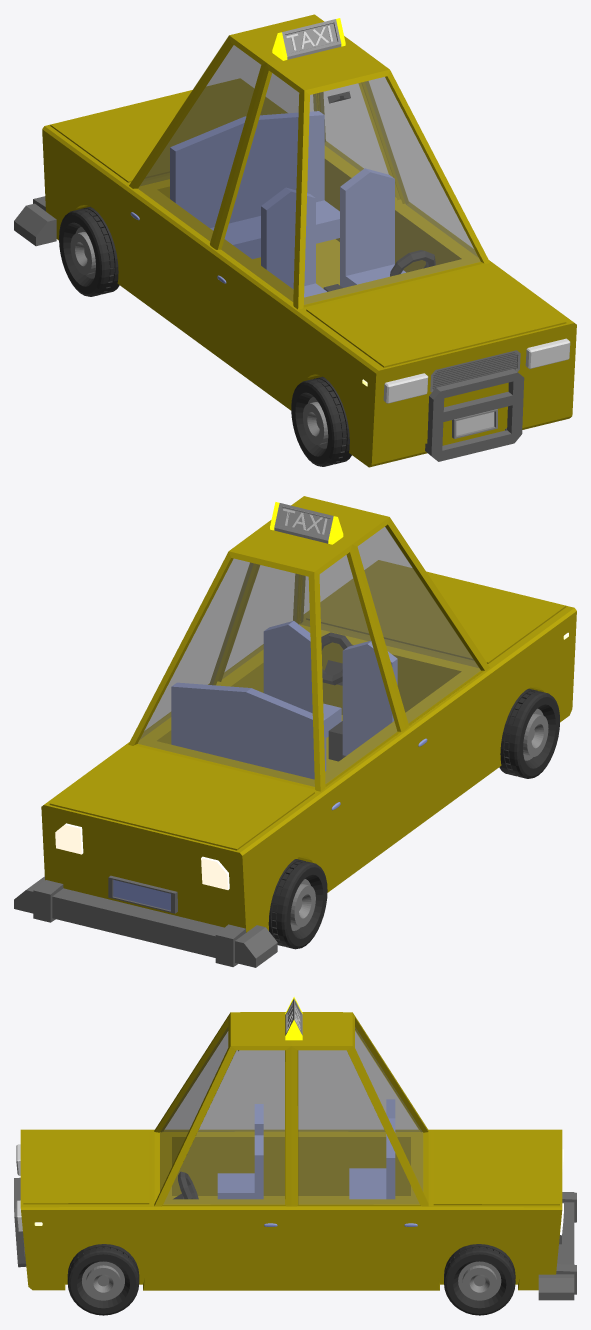
Rendered from taxiCartoon.fbx.
The picture shows the model from 3 angles, top to bottom: view 1: azimuth 30°, elevation 25°; view 2: azimuth 150°, elevation 25°; view 3: azimuth 270°, elevation 25°; orthographic projection. The views are drawn at different scales.
Parts seen in each view (by area): view 1: Cube.007; view 2: Cube.007; view 3: Cube.007.
Part boxes in pixels (x1=…): Cube.007: x1=14, y1=14, x2=576, y2=467; Cube.007: x1=14, y1=496, x2=576, y2=967; Cube.007: x1=14, y1=997, x2=576, y2=1315.
Bounding box in the file's own units: 289 × 371 × 719.
